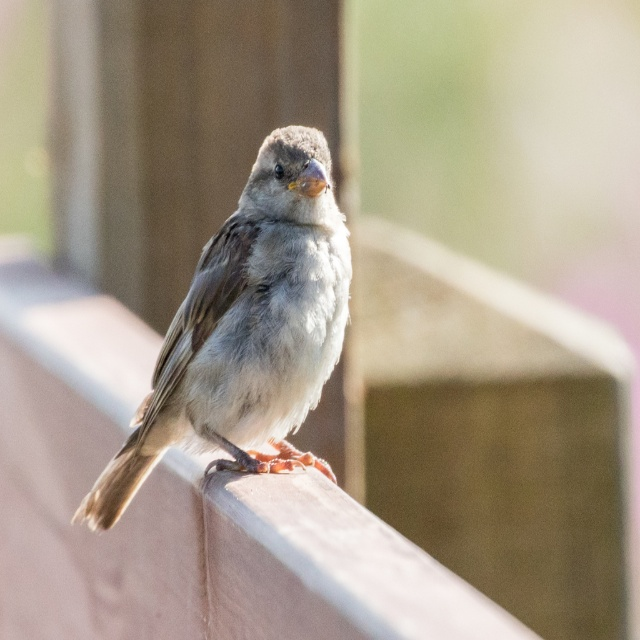Sparrow: (71, 125, 351, 531)
